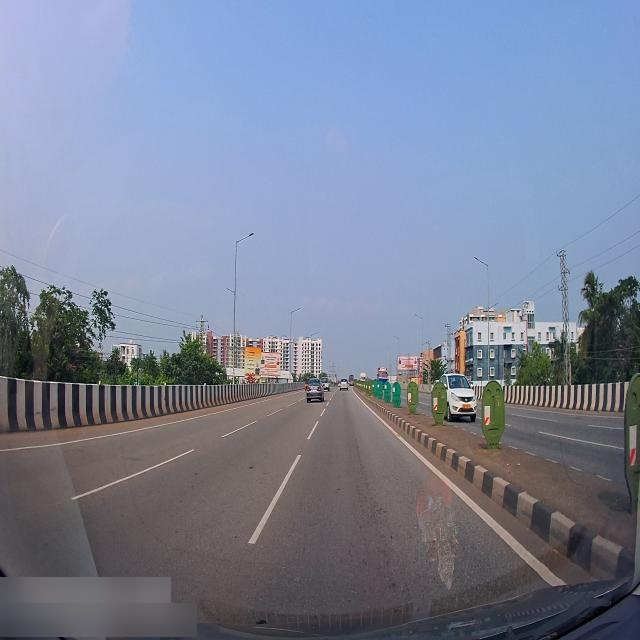pothole: (246, 463, 260, 474)
